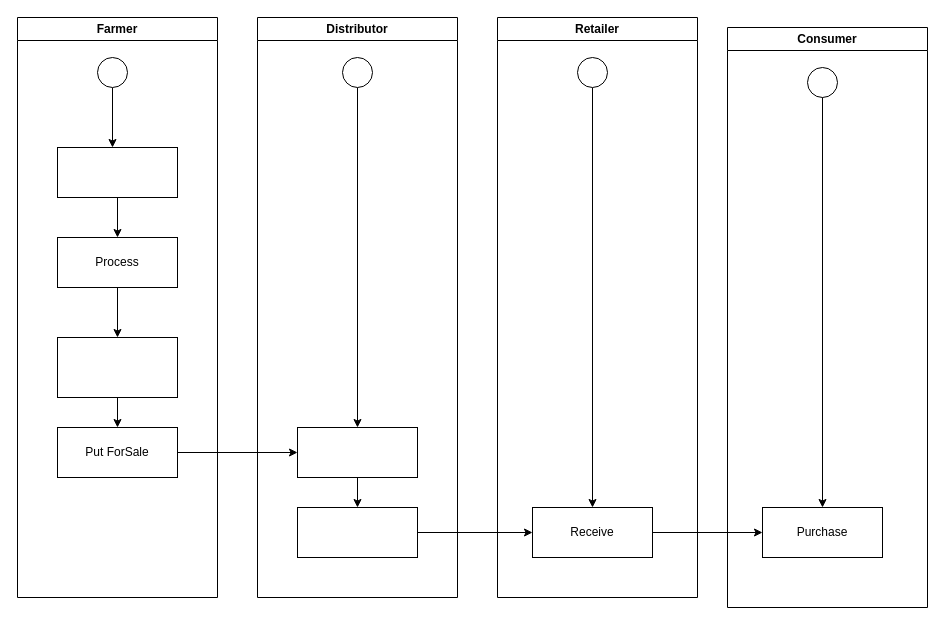
The diagram is 945 pixels wide and 625 high, and some of its shapes have lost their labels. Here are the shapes that lost their labels. From the top down, the centre of each, then its label:
At (x=117, y=172): "Harvest".
At (x=117, y=367): "Pack".
At (x=357, y=452): "Buy".
At (x=357, y=532): "Ship".
